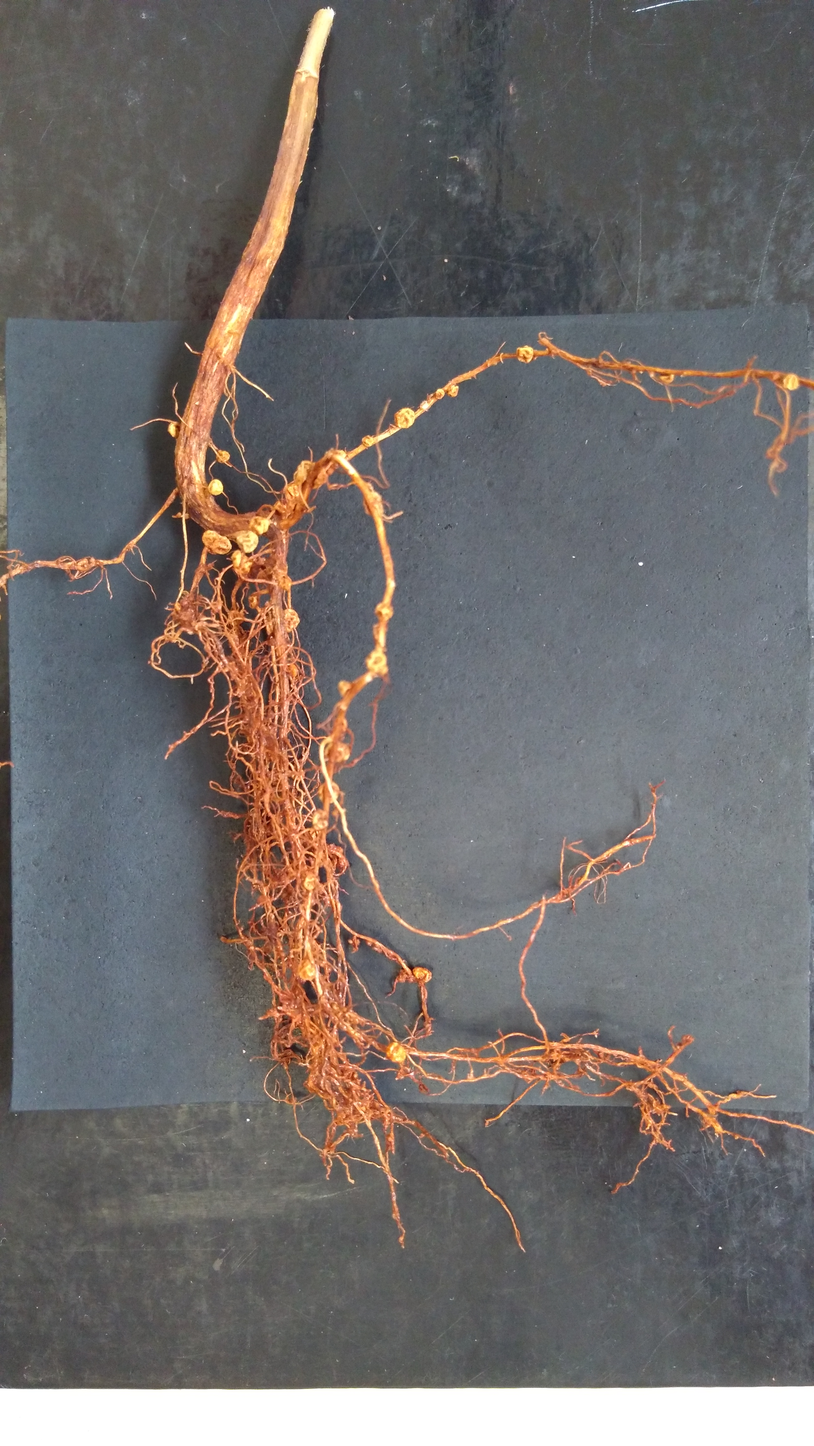nodule: (292, 460, 330, 491), (200, 528, 233, 555), (230, 550, 257, 582), (363, 647, 391, 676), (360, 489, 386, 519), (317, 779, 341, 804), (234, 530, 260, 553), (324, 741, 351, 762), (393, 406, 416, 430), (282, 607, 301, 634), (385, 1040, 406, 1064), (310, 807, 330, 832), (298, 957, 318, 982), (373, 601, 397, 621), (515, 345, 535, 365), (411, 966, 434, 983), (206, 478, 225, 498), (282, 481, 300, 502), (253, 514, 270, 535), (782, 373, 800, 391), (336, 677, 352, 697), (327, 842, 344, 860), (215, 448, 231, 465), (335, 857, 351, 874), (167, 421, 180, 440), (302, 876, 317, 891), (360, 434, 375, 448), (659, 372, 675, 385), (282, 573, 292, 593), (247, 595, 259, 610), (447, 385, 460, 398), (434, 388, 446, 401), (184, 512, 191, 520), (176, 511, 182, 518)
